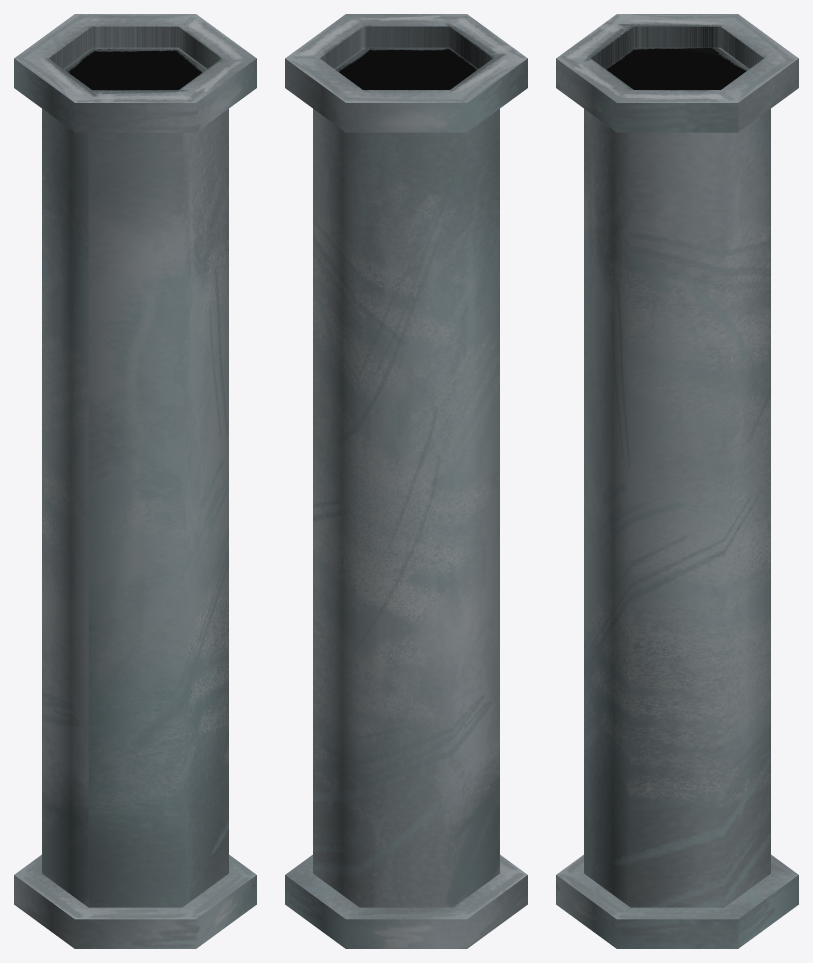
The model's file is pipe.glb.
3 views of the same model, side by side, from view 1: azimuth 30°, elevation 25°; view 2: azimuth 150°, elevation 25°; view 3: azimuth 270°, elevation 25° (orthographic).
Parts seen in each view (by area): view 1: Cylinder; view 2: Cylinder; view 3: Cylinder.
Boxes of the visible parts, box(x1,y1,x2,y2) form: Cylinder: box(14, 14, 256, 948); Cylinder: box(285, 14, 527, 948); Cylinder: box(556, 14, 798, 948).
Bounding box in the file's own units: 0.0675 × 0.3 × 0.078.
Materials: 1 (1 with a texture image).
